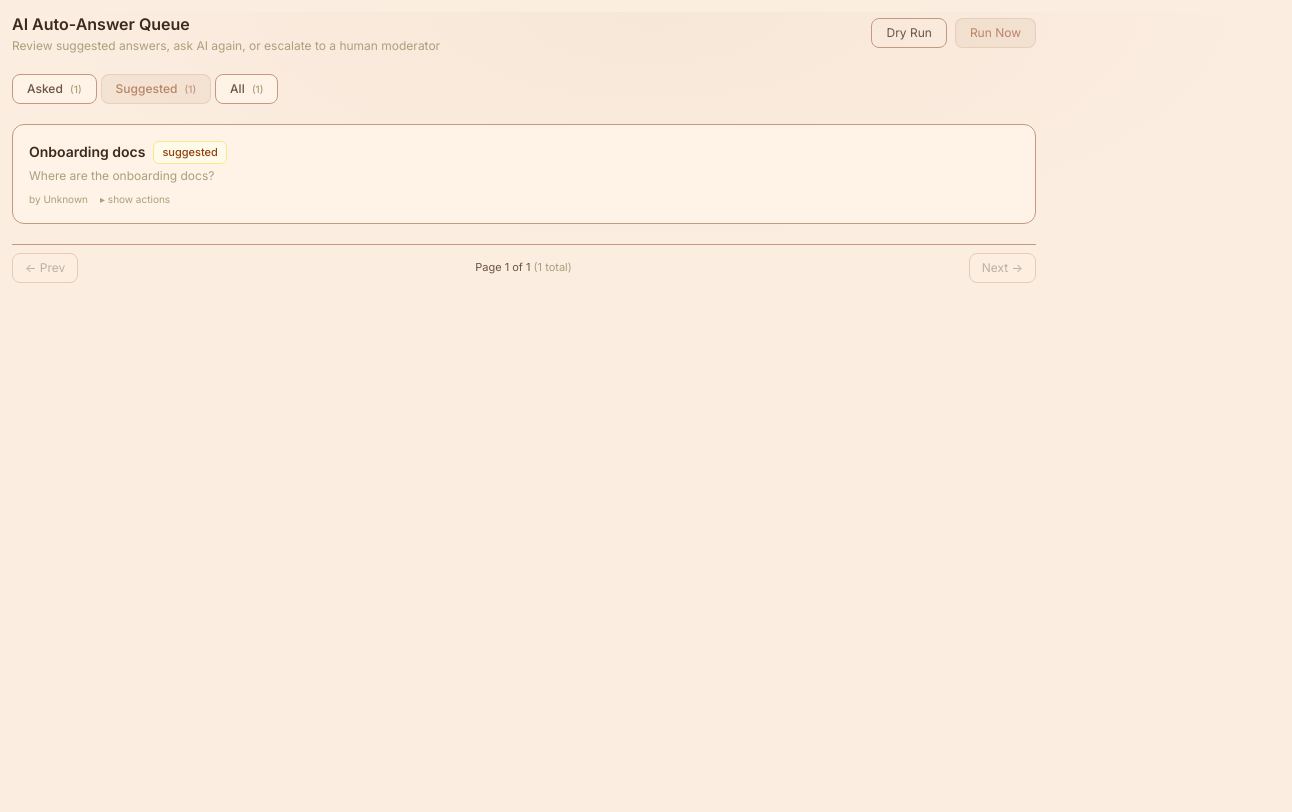
Scenario: AdminAutoAnswerQueue › renders the AI draft answer, source citations, admin reply textarea, and the action buttons when a post is expanded
This screenshot has width=1292, height=812.
Click the heading "Onboarding docs". click: (87, 152)
box: [29,142,145,162]
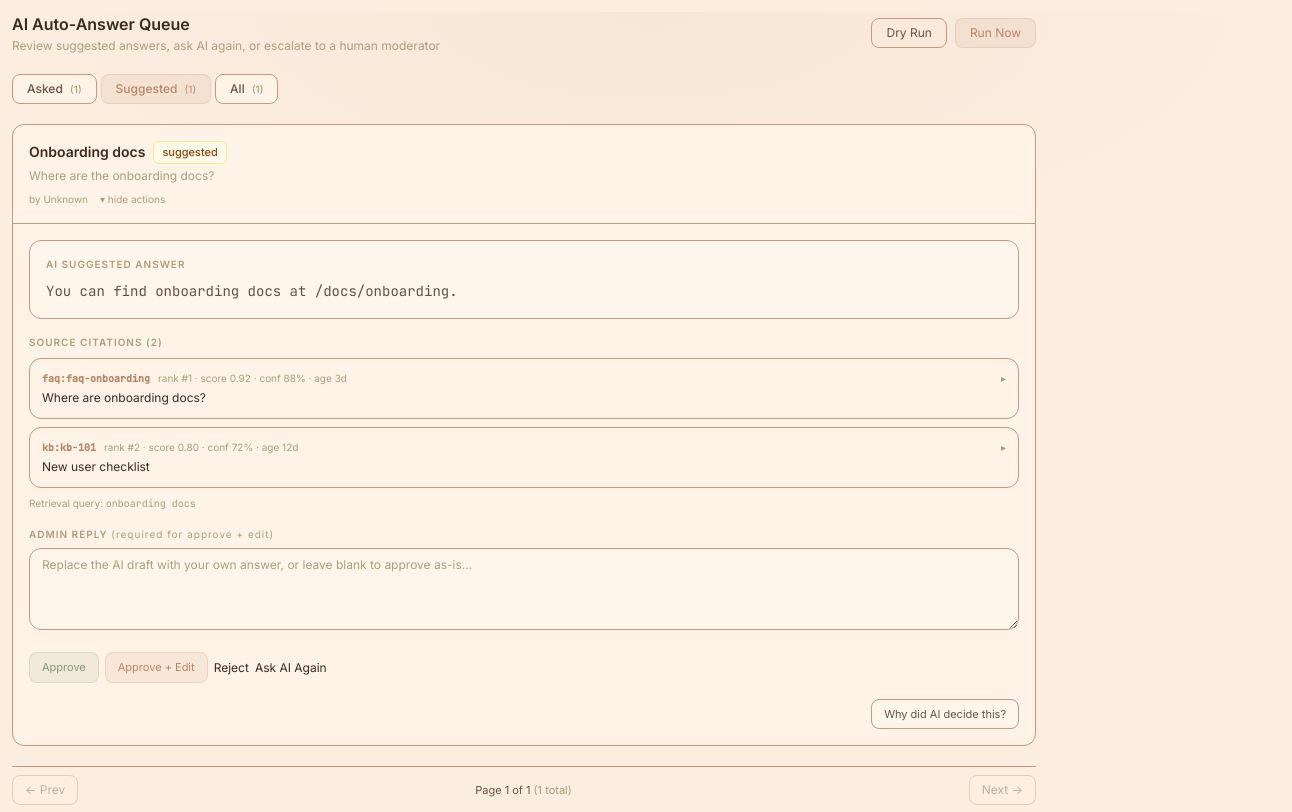
Result: the text "You can find onboarding docs at /docs/onboarding." is shown at [46,282,458,300]
Result: the text "faq:faq-onboarding" is shown at [42,371,150,386]
Result: the text "kb:kb-101" is shown at [42,440,96,455]
